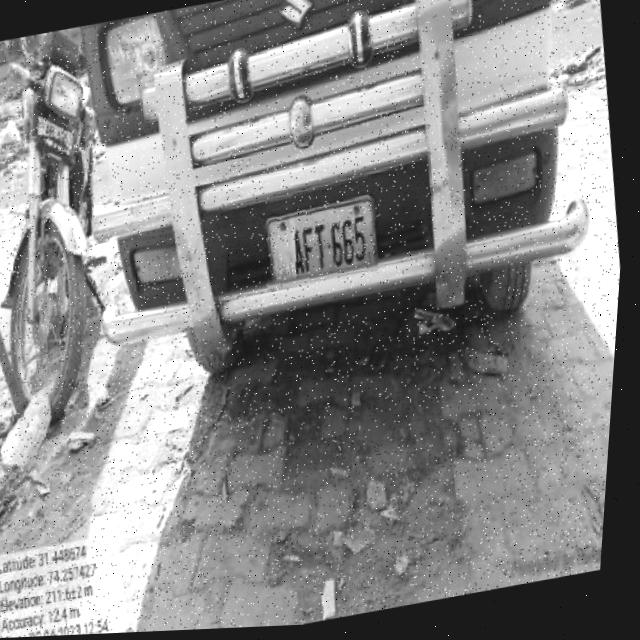LicensePlate: (262, 197, 387, 296)
